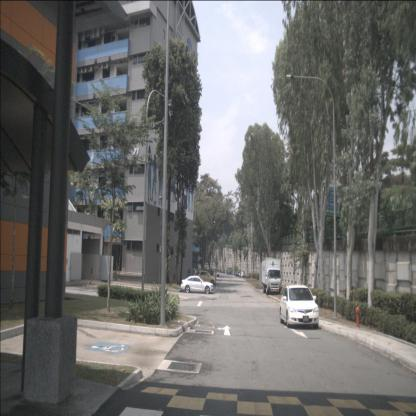human-pedestrian-adult: (188, 268, 191, 282)
vehicle-car: (280, 284, 319, 329), (181, 275, 214, 294), (196, 271, 216, 286), (209, 270, 221, 277), (240, 271, 245, 278), (235, 270, 240, 277)
vehicle-truck: (261, 258, 282, 295)
